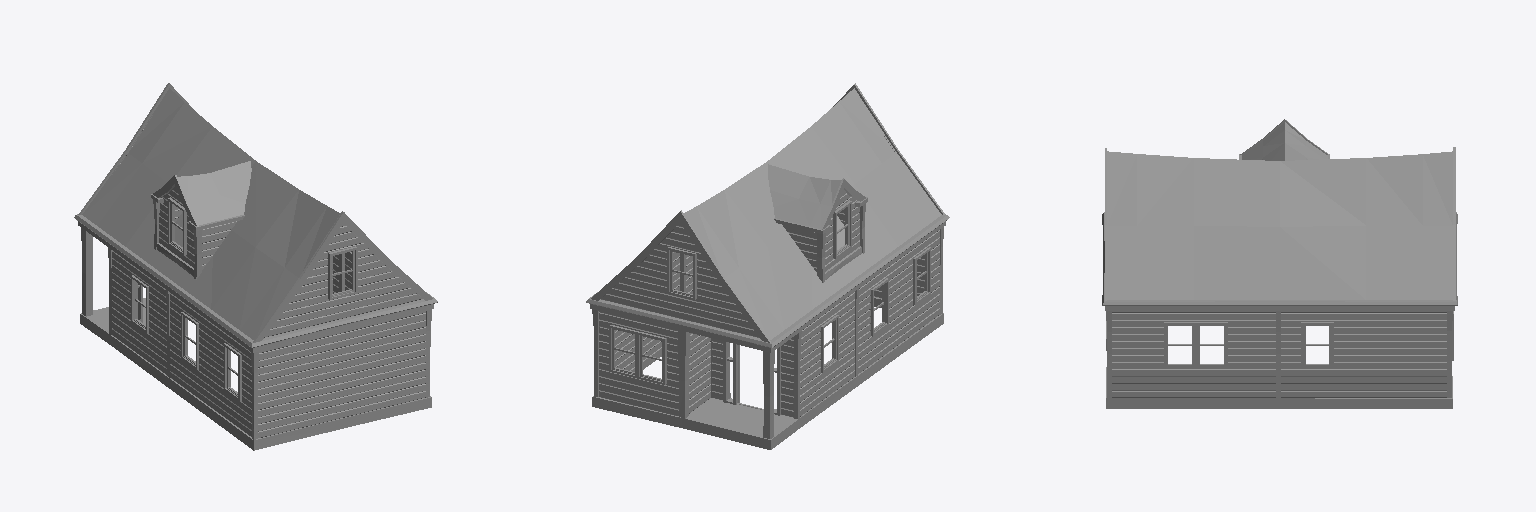
Rendered from house.obj.
3 views of the same model, side by side, from view 1: azimuth 30°, elevation 25°; view 2: azimuth 150°, elevation 25°; view 3: azimuth 270°, elevation 25° (orthographic).
Parts seen in each view (by area): view 1: House_1_C_Main_Enterable; view 2: House_1_C_Main_Enterable; view 3: House_1_C_Main_Enterable.
Part boxes in pixels (x1,y1,x2,y2): House_1_C_Main_Enterable: (74, 83, 437, 450); House_1_C_Main_Enterable: (586, 83, 949, 449); House_1_C_Main_Enterable: (1102, 119, 1457, 408).
Size of the model in its own units: 6.26 by 7.01 by 10.33.